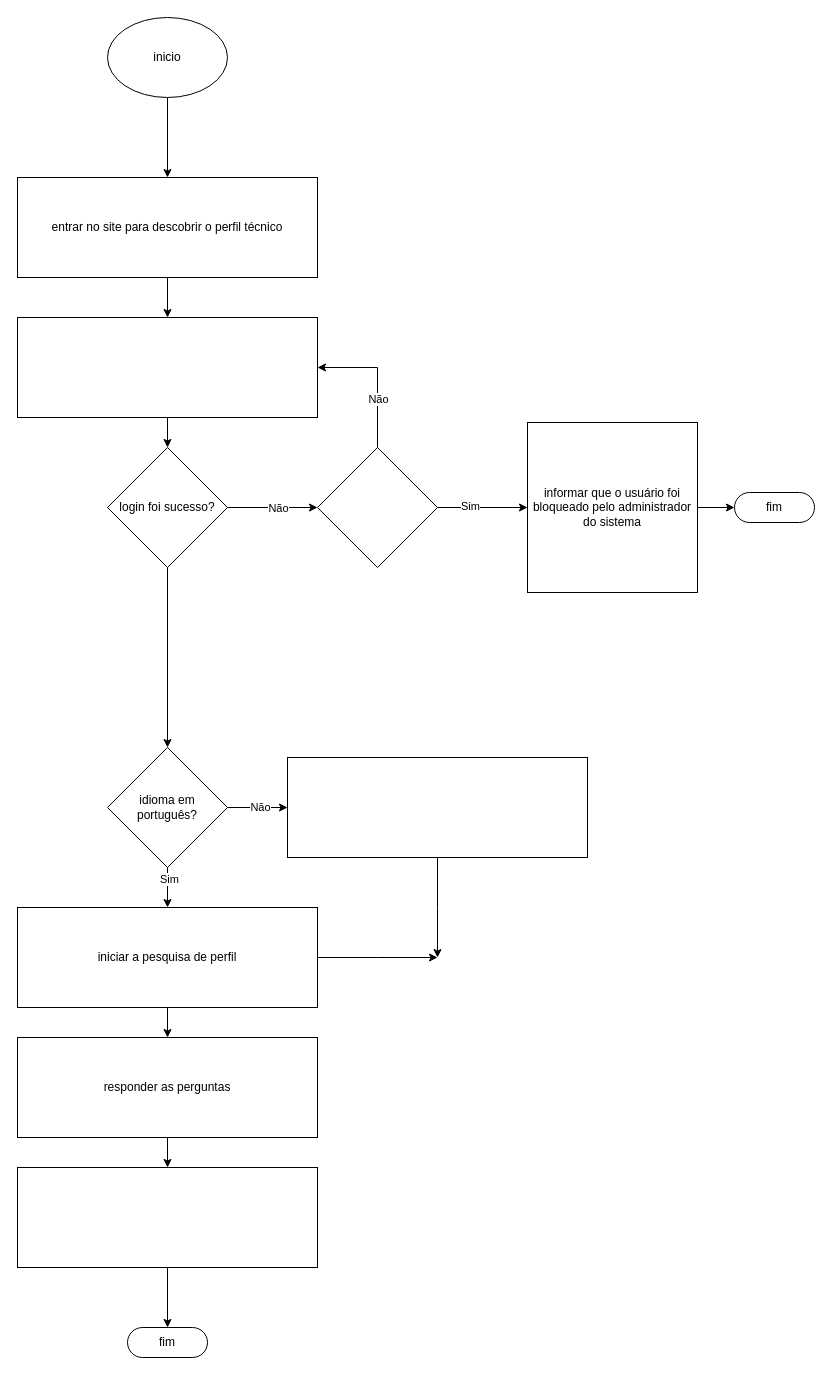
The diagram is 832 pixels wide and 1375 high, and some of its shapes have lost their labels. The box of each missing label's shape, as (x1, y1, x2, y2) in pixels:
atingiu o número máximo de tentativas?: (316, 446, 438, 568)
fornecer usuário e senha para autenticar o site: (16, 316, 318, 418)
habilitar o tradutor do navegador: (286, 756, 588, 858)
receber a resposta da pesquisa: (16, 1166, 318, 1268)
